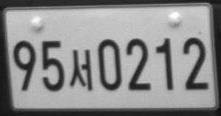0: (97, 38, 122, 91)
1: (154, 37, 179, 90)
2: (124, 37, 151, 91), (182, 36, 209, 89)
5: (40, 40, 65, 92)
9: (12, 39, 36, 91)
서: (69, 48, 94, 91)
